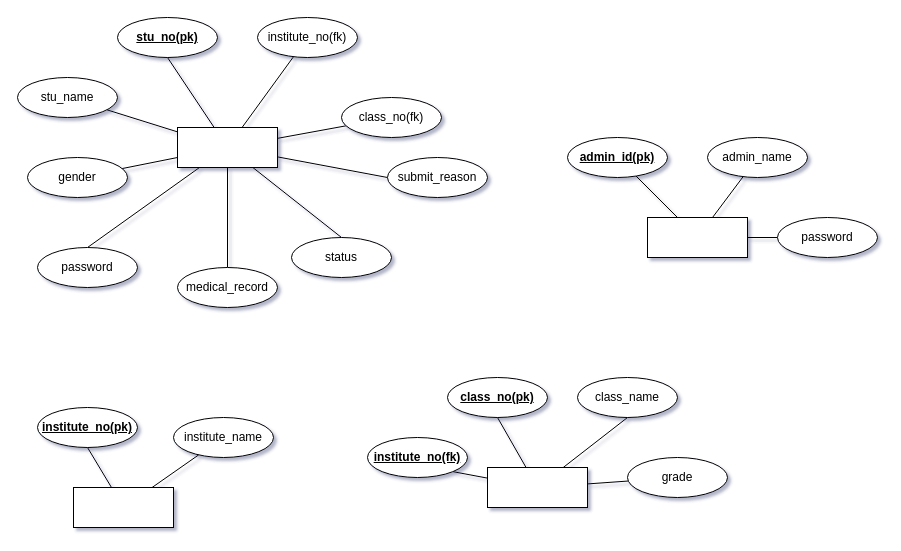
This 901x551 diagram has some shape labels left out. Each missing label, with the centre of its shape:
"admin" goes at point 697,237.
"class" goes at point 537,487.
"institute" goes at point 123,507.
"student" goes at point 227,147.
